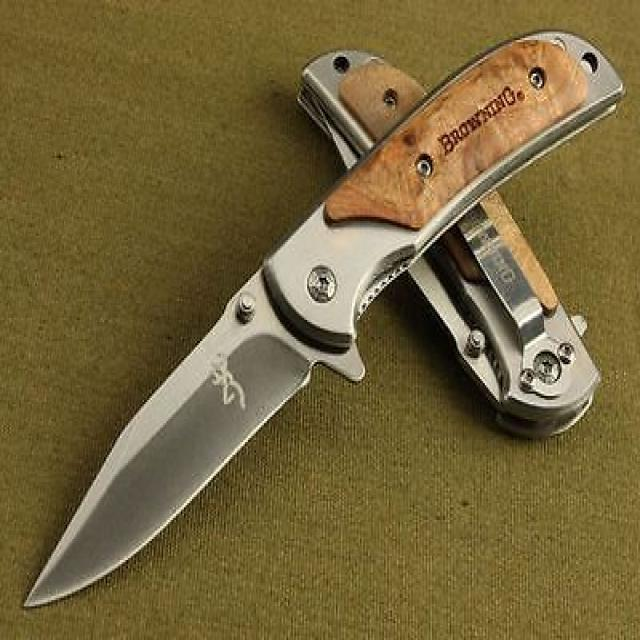knife: (22, 24, 626, 622)
